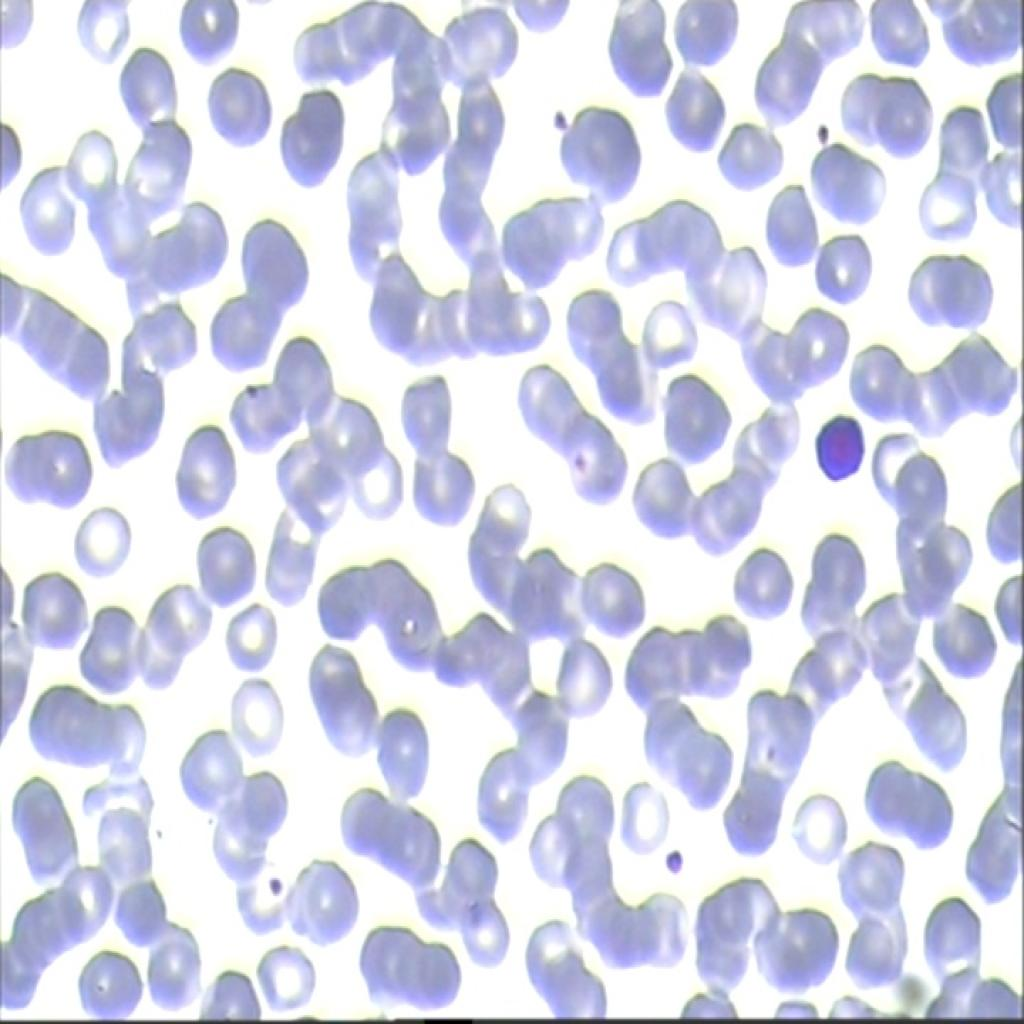Limfosit: (809, 406, 866, 492)
Platelet: (540, 98, 574, 140), (662, 841, 692, 883), (265, 855, 290, 901), (798, 114, 835, 144)
